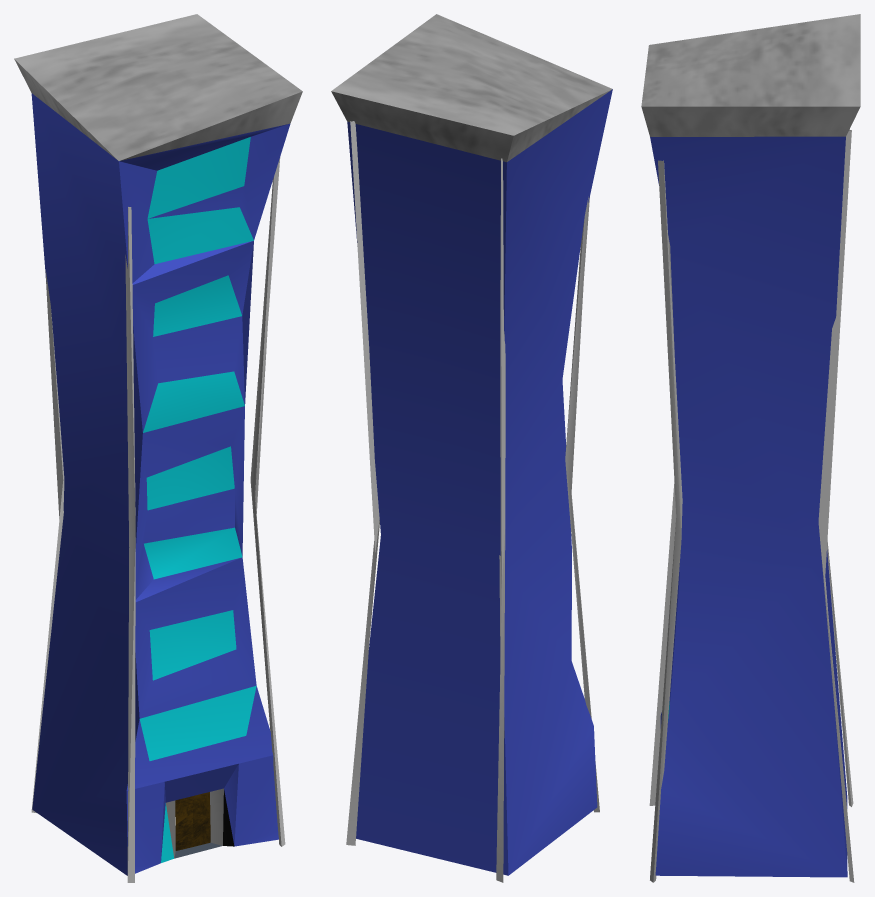
The model's file is PredioAltoFino-AzulLOD2.fbx.
The picture shows the model from 3 angles, left to right: view 1: azimuth 30°, elevation 25°; view 2: azimuth 150°, elevation 25°; view 3: azimuth 270°, elevation 25°; orthographic projection. The views are drawn at different scales.
Visible parts, largest first — view 1: PredioAltoFinoLOD2; view 2: PredioAltoFinoLOD2; view 3: PredioAltoFinoLOD2.
Boxes of the visible parts, x1=… form: PredioAltoFinoLOD2: x1=14, y1=14, x2=302, y2=882; PredioAltoFinoLOD2: x1=331, y1=14, x2=612, y2=882; PredioAltoFinoLOD2: x1=641, y1=14, x2=860, y2=882.
Bounding box in the file's own units: 635 × 2499 × 635.
